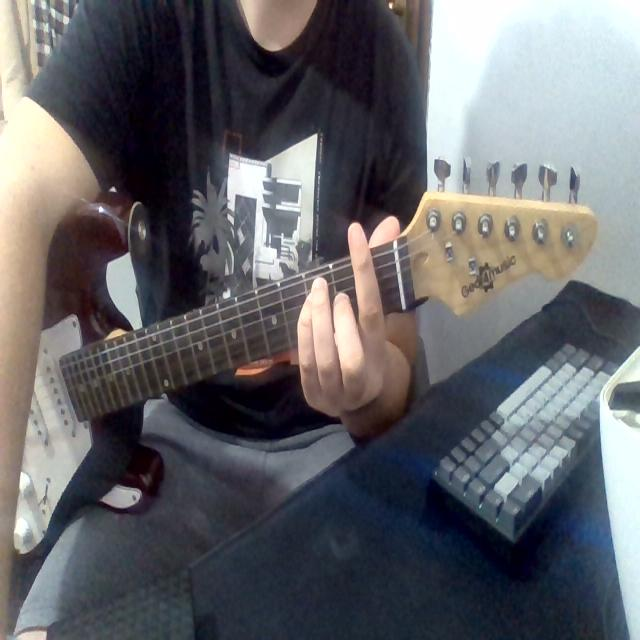F: (263, 214, 403, 455)
